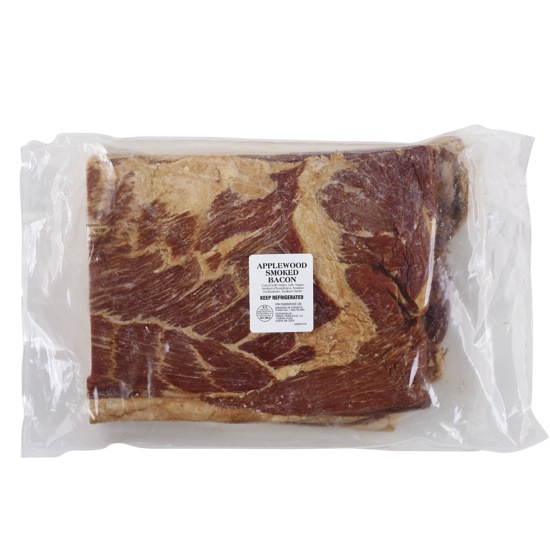bacon: (77, 161, 434, 411)
